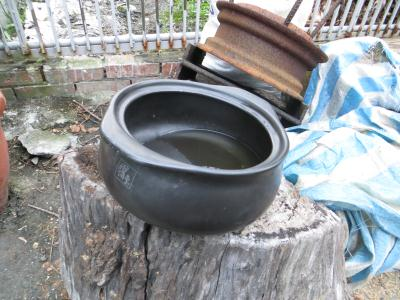bowl: (93, 74, 293, 237)
plastic_bag: (310, 33, 400, 266)
